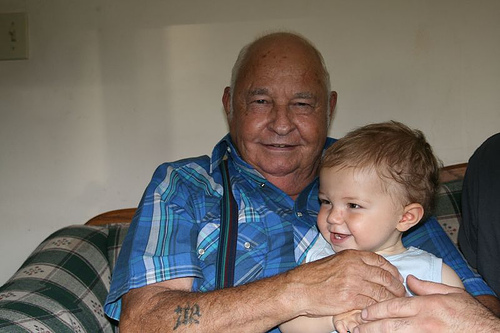without_mask: (223, 55, 338, 178), (321, 157, 428, 253)
